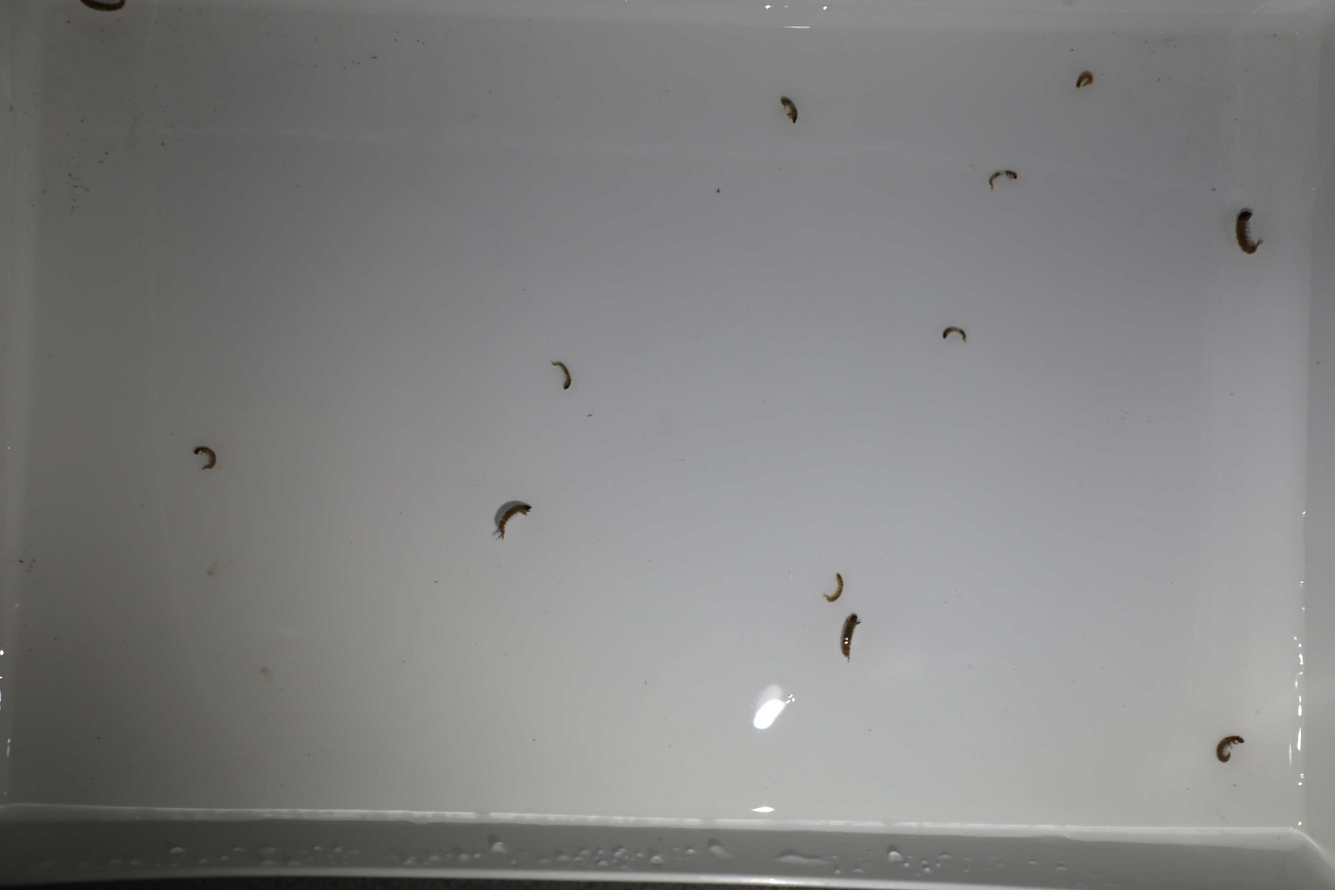Cadisfly: (490, 504, 532, 542), (1233, 206, 1263, 256), (1209, 731, 1248, 769), (187, 436, 220, 476), (837, 611, 862, 662), (548, 358, 578, 396), (74, 0, 137, 18), (940, 320, 976, 347), (822, 568, 845, 604), (984, 165, 1017, 190), (783, 97, 804, 127), (1072, 66, 1095, 92)
